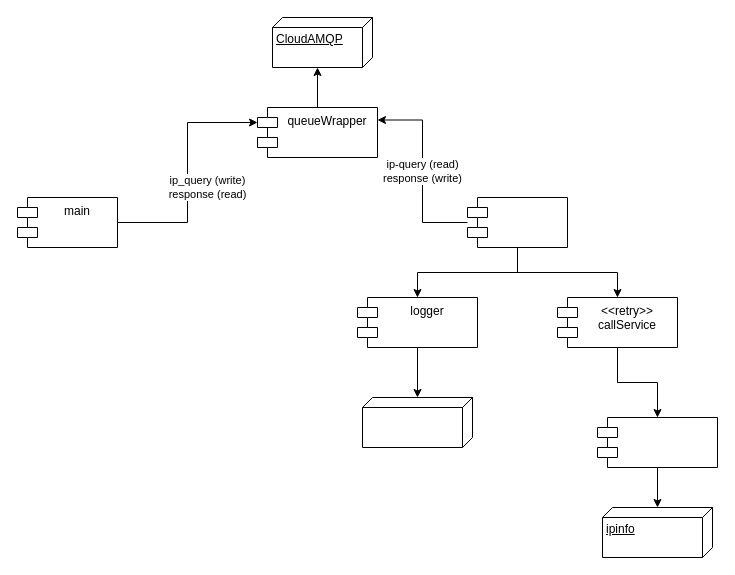
Image size: 735x575. Some labels were removed from this diagram. Each missing label, with the centre of its shape:
"MongoDB Atlas" goes at point (417, 422).
"server" goes at point (657, 442).
"worker" goes at point (517, 222).
